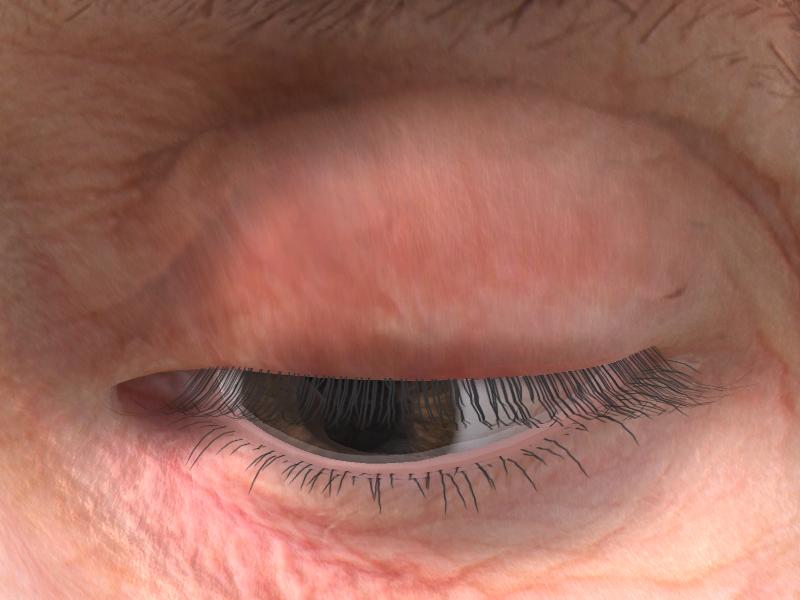eye: (238, 368, 461, 470)
